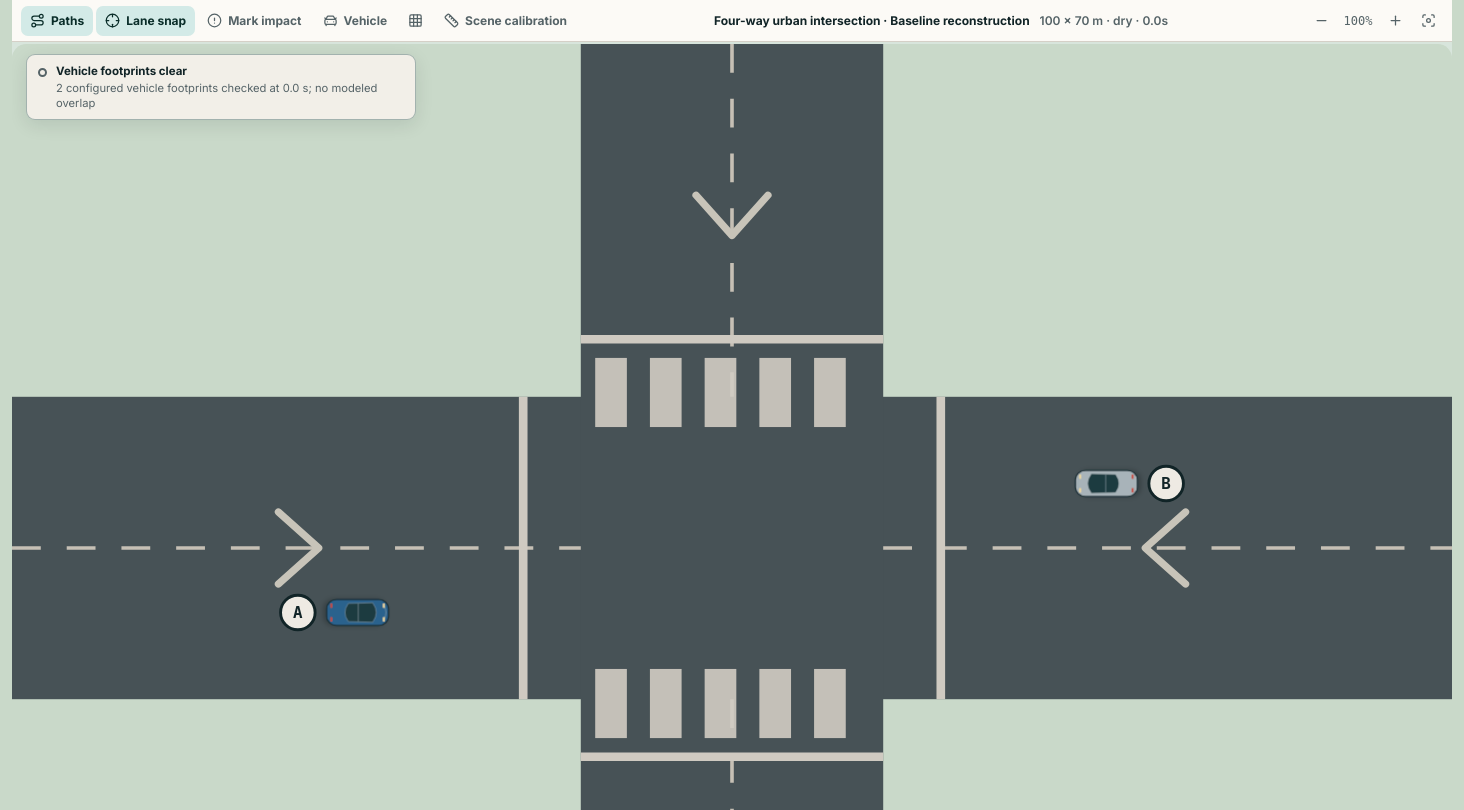
Test case: scene impact placement › keeps the two-vehicle flow free of redundant pair controls
The image size is (1464, 810).
Click the button "Mark impact" at [254, 20], box [198,6,310,36]
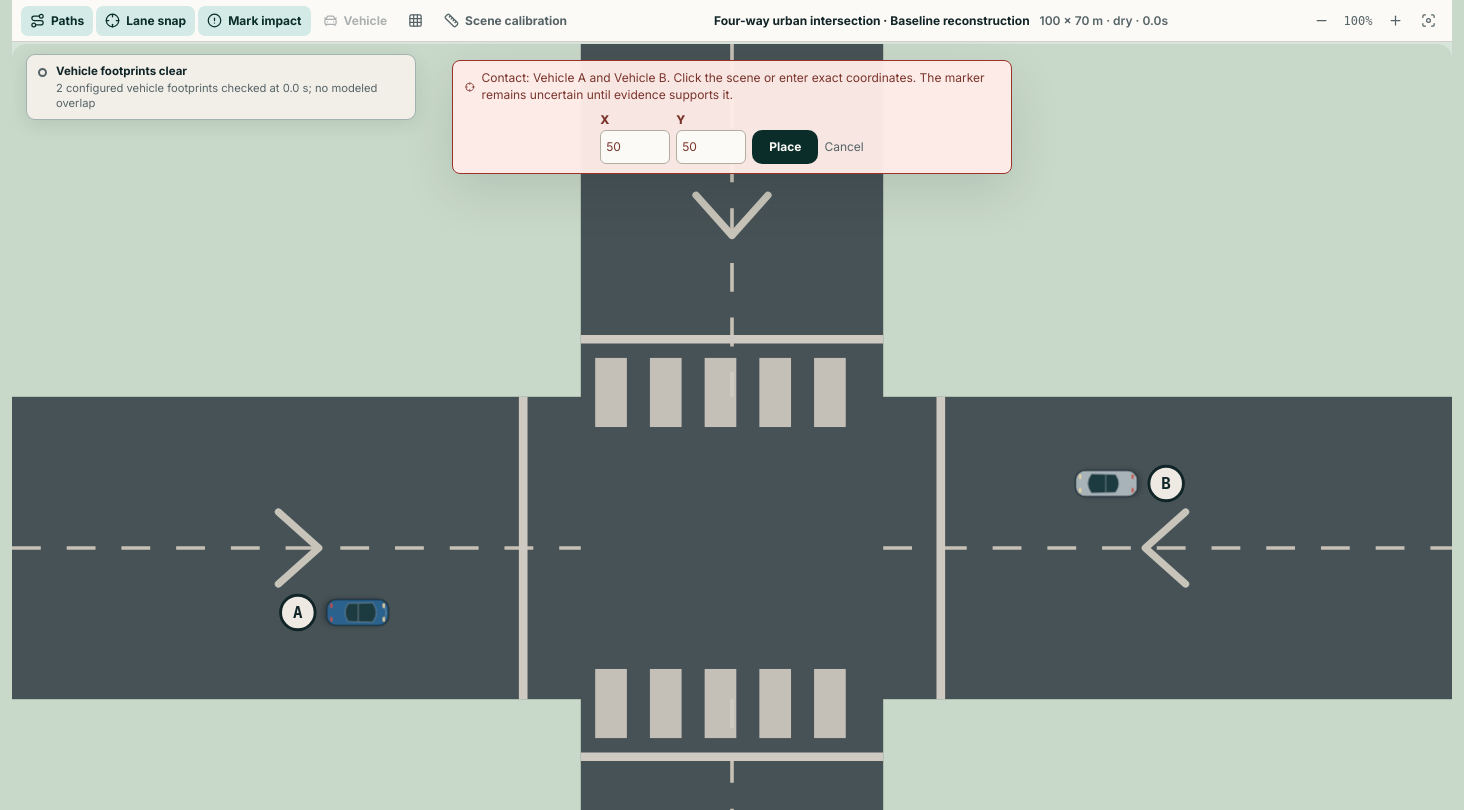
Expected: the form named "Place approximate impact by coordinates for Vehicle A and Vehicle B" is shown, [600,112,864,164]
